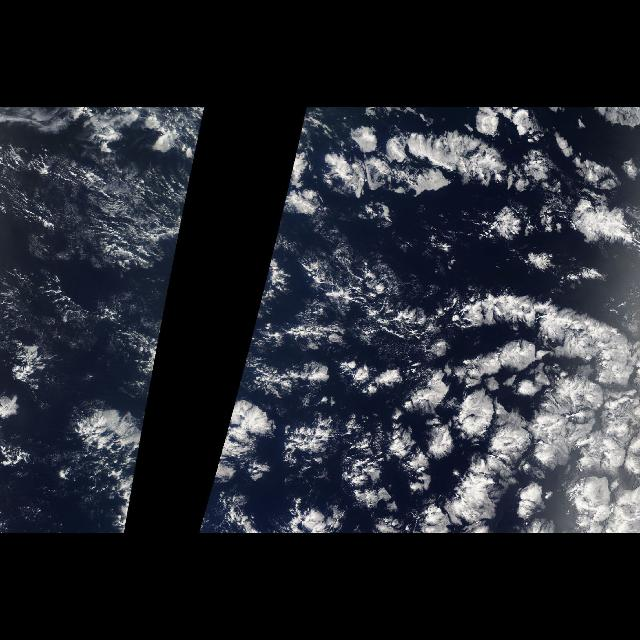Flower: (202, 107, 640, 533), (37, 354, 156, 486)
Gravel: (1, 150, 188, 270)
Sugar: (40, 160, 180, 270)
